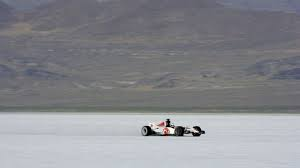f1_car: (136, 112, 209, 142)
